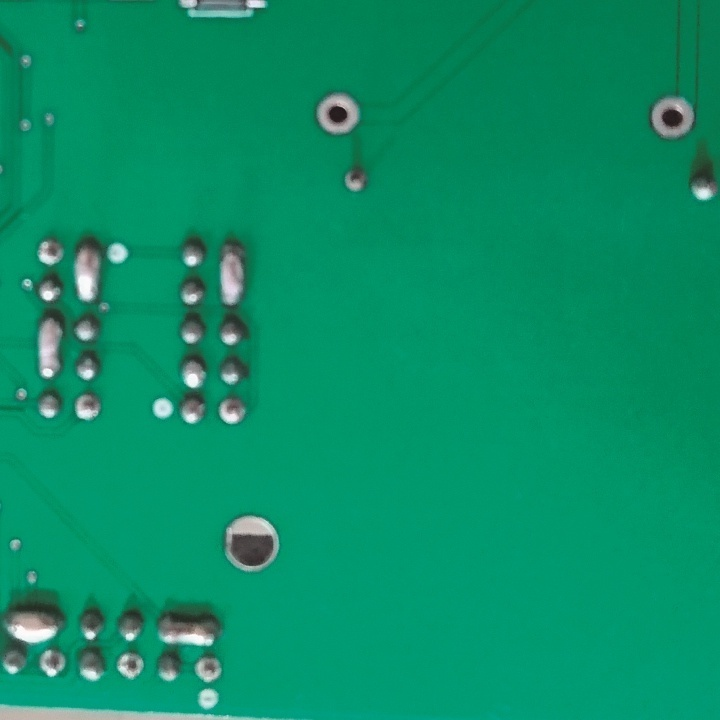F: (648, 94, 699, 145), (314, 89, 361, 137), (192, 652, 227, 687), (33, 238, 67, 269), (37, 646, 67, 679), (116, 649, 147, 680), (216, 396, 247, 426), (75, 392, 101, 425), (341, 163, 367, 193)
P: (159, 609, 221, 649), (4, 606, 64, 646), (219, 239, 247, 312), (75, 237, 102, 306), (35, 309, 61, 380)
